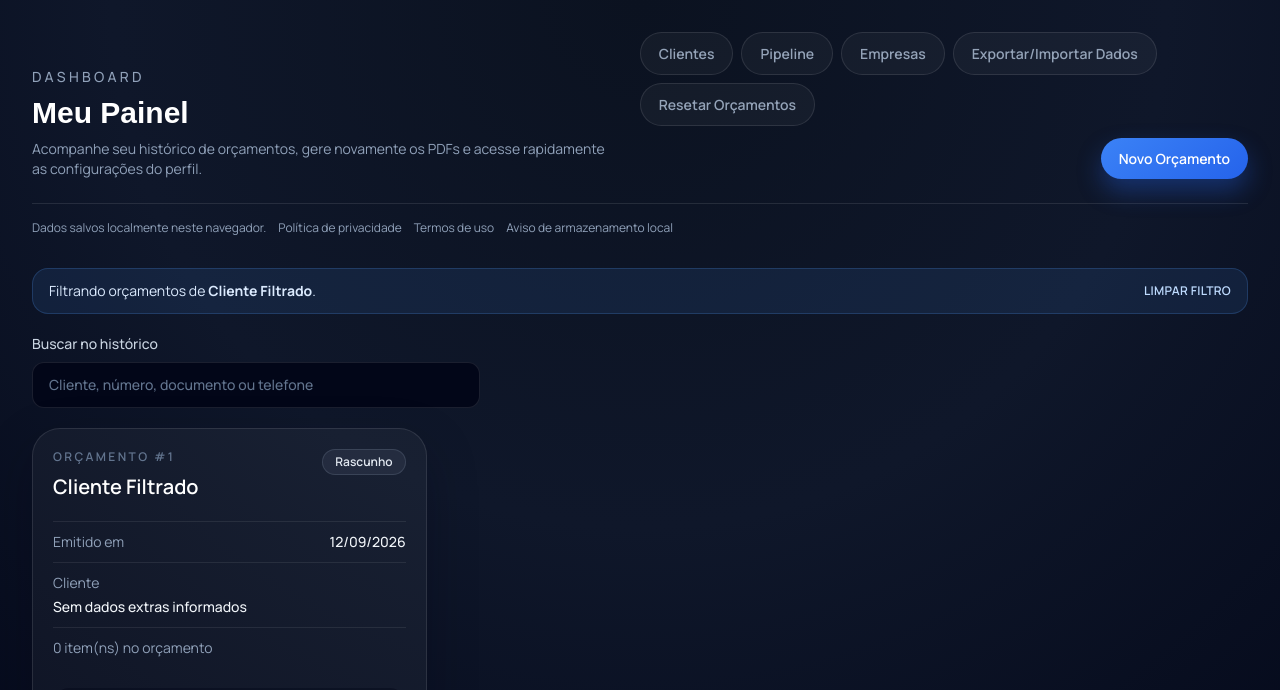
Scenario: HomePage › filters the dashboard by clientId from the URL and allows clearing it
Expected: the text "Filtrando orçamentos de Cliente Filtrado." is shown, [49, 281, 316, 301]
Expected: the text "Cliente Filtrado" is shown 2 times, [208, 281, 312, 300]; [53, 473, 198, 501]
Click the button "Limpar filtro".
click(1188, 291)  # box [1144, 283, 1231, 299]
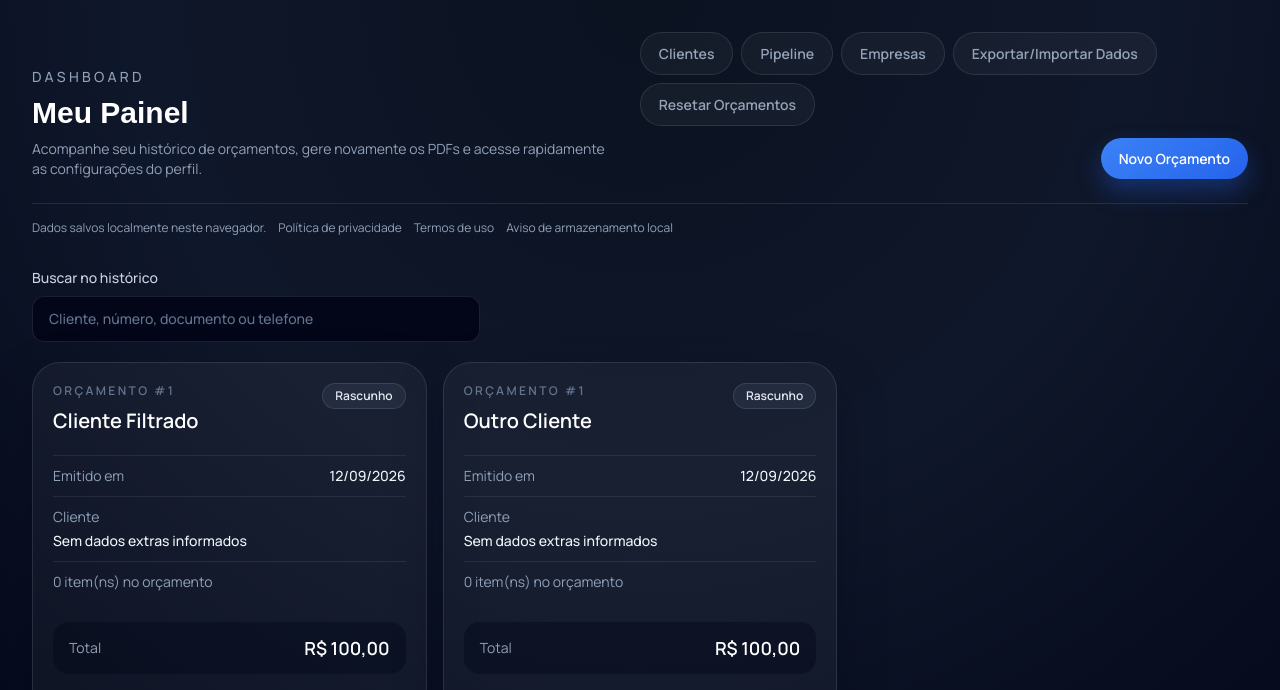
Expected: the text "Filtrando orçamentos de" is gone
Expected: the heading "Outro Cliente" is shown, [464, 407, 592, 435]
